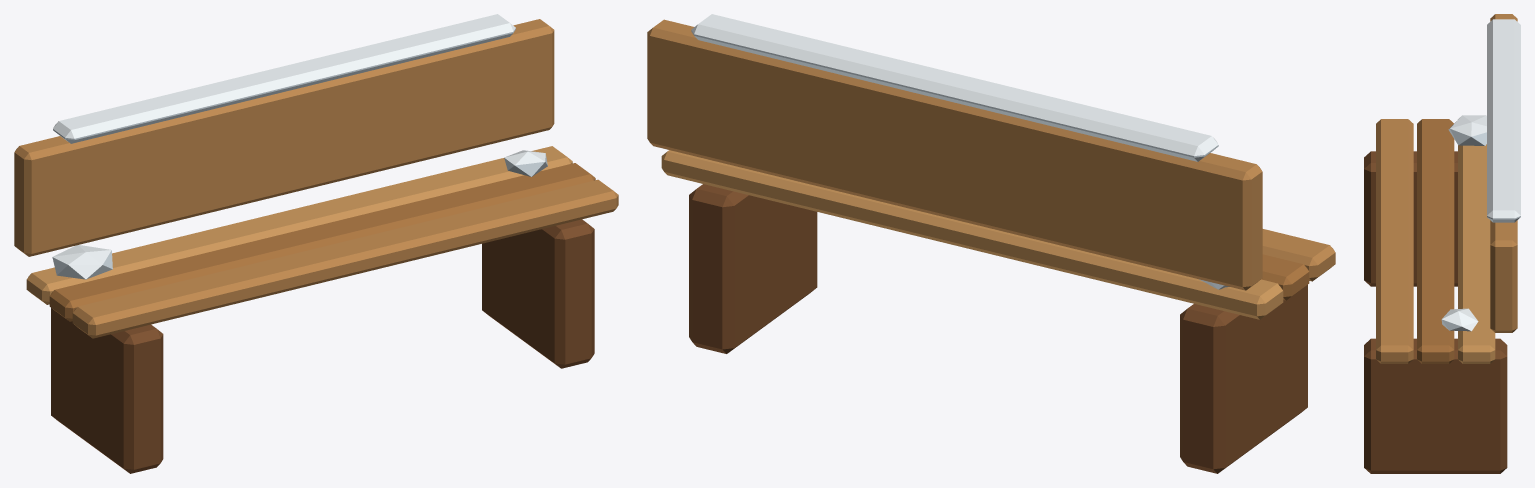
Rendered from spectator_bench_snow.glb.
3 views of the same model, side by side, from view 1: azimuth 30°, elevation 25°; view 2: azimuth 150°, elevation 25°; view 3: azimuth 270°, elevation 25° (orthographic). The views are drawn at different scales.
Parts seen in each view (by area): view 1: spectator_bench_snow; view 2: spectator_bench_snow; view 3: spectator_bench_snow.
Part boxes in pixels (x1,y1,x2,y2): spectator_bench_snow: (14, 14, 618, 473); spectator_bench_snow: (647, 14, 1335, 473); spectator_bench_snow: (1364, 14, 1520, 473).
Size of the model in its own units: 1.6 by 0.84 by 0.46.
